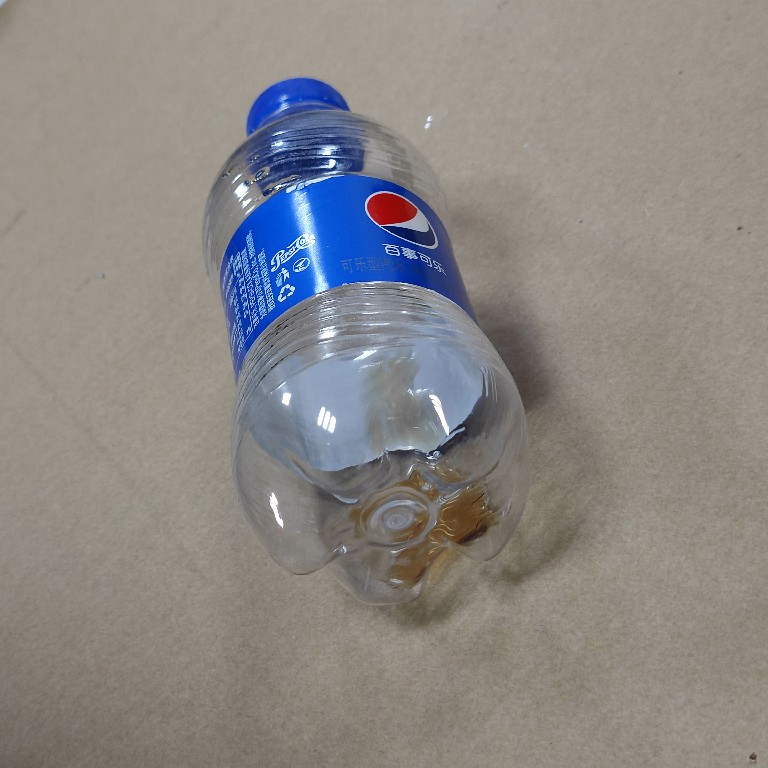bottle: (194, 76, 538, 612)
